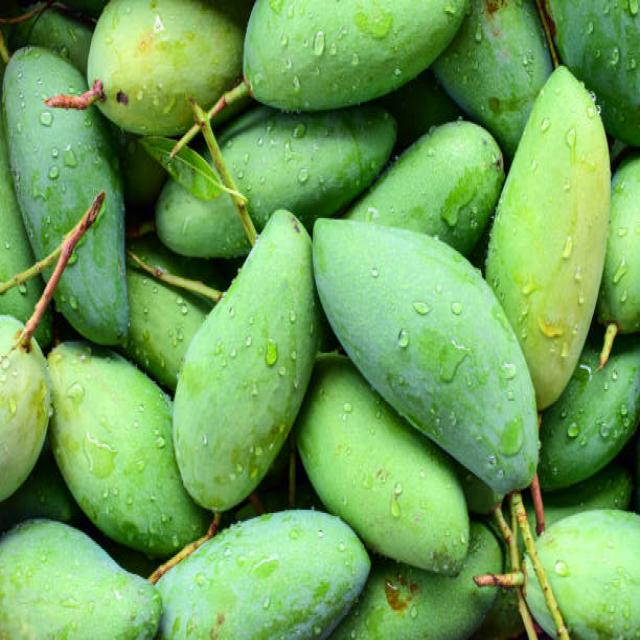raw-image: (312, 200, 553, 508), (171, 204, 316, 513), (0, 47, 146, 337), (240, 0, 478, 96), (0, 505, 161, 640), (550, 0, 640, 69), (556, 396, 622, 482)
